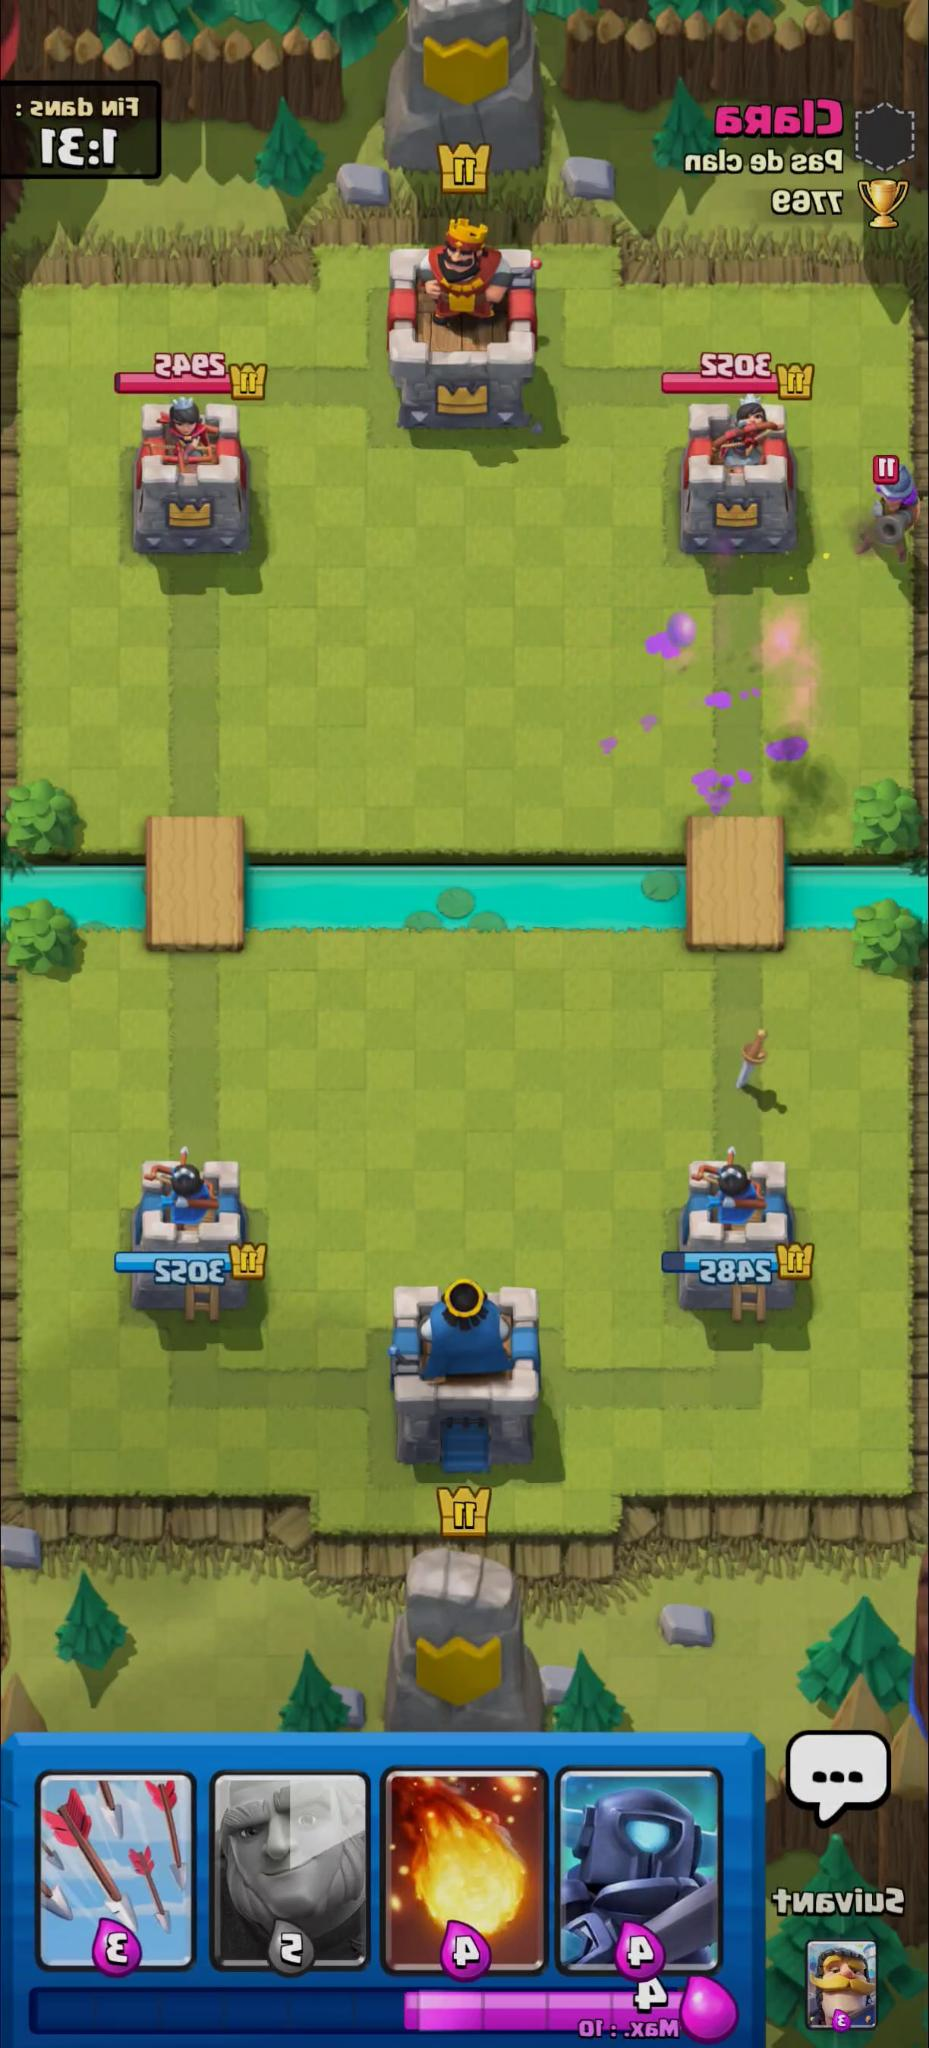mousquetaire: (847, 452, 917, 571)
